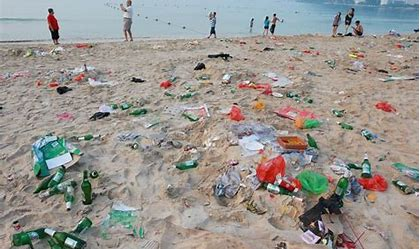garbage: (223, 115, 416, 249), (27, 134, 104, 211), (6, 215, 110, 249), (50, 95, 159, 126), (228, 80, 318, 114), (9, 67, 122, 94), (160, 72, 214, 126), (286, 44, 345, 71), (192, 47, 243, 75), (380, 64, 420, 90), (170, 153, 213, 177), (356, 37, 379, 74), (126, 66, 158, 90), (370, 98, 401, 116), (389, 37, 417, 52)
